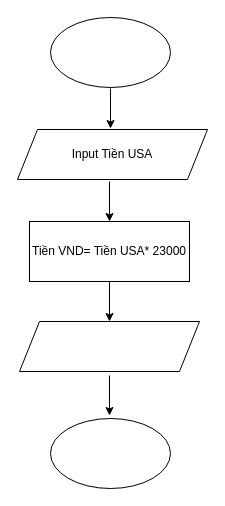
Some shapes in this 225 by 506 pixel diagram are drawn without their labels. Each missing label, with the box of its shape:
Begin: (50, 16, 170, 88)
Print "Tiền VND": (18, 320, 200, 372)
